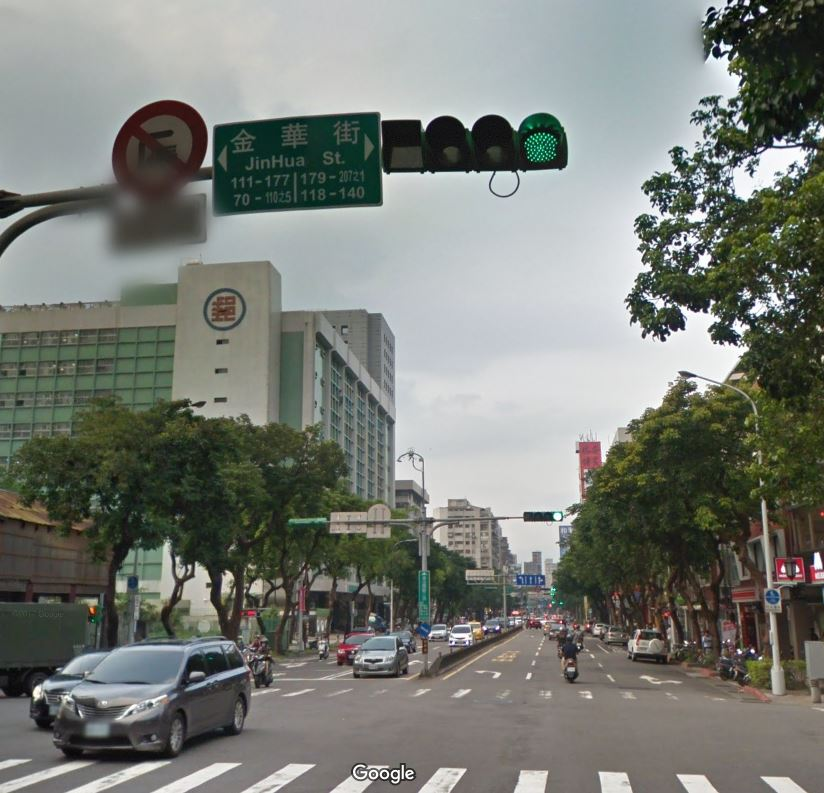Traffic_light_green: (380, 115, 569, 180)
car: (55, 639, 259, 759), (349, 630, 412, 684)
